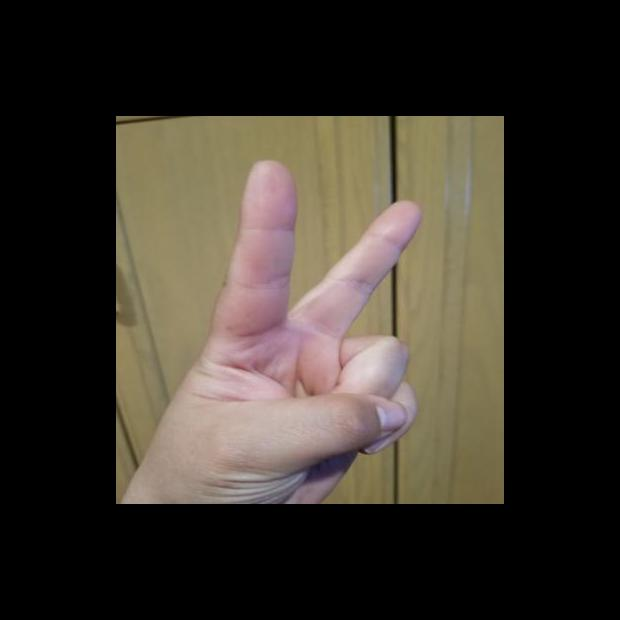U: (117, 154, 431, 503)
